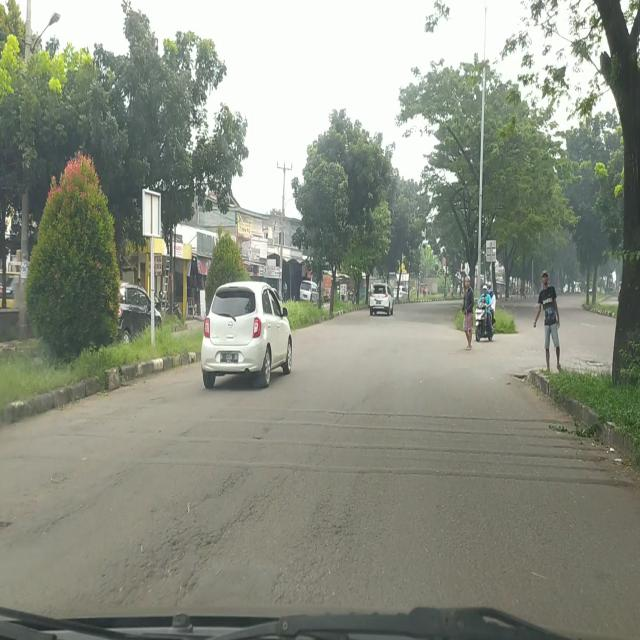Drain Hole: (114, 478, 378, 602)
